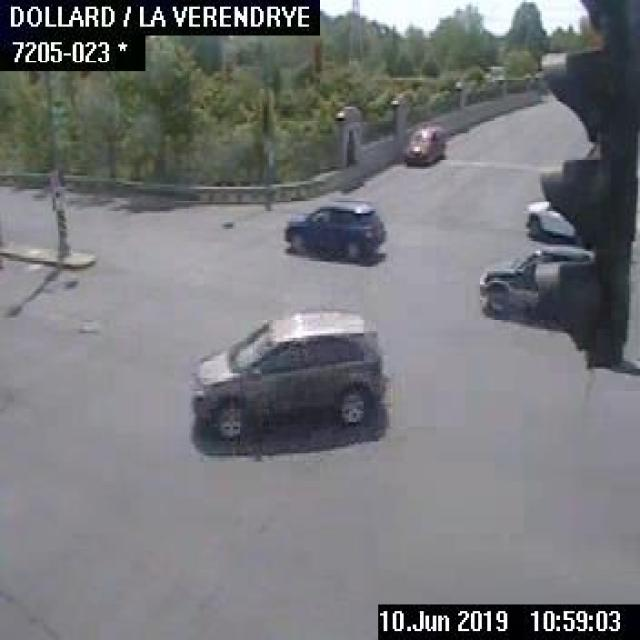vehicle: (188, 309, 388, 438), (476, 243, 591, 327), (284, 196, 384, 260), (524, 196, 586, 241), (399, 122, 444, 162)
